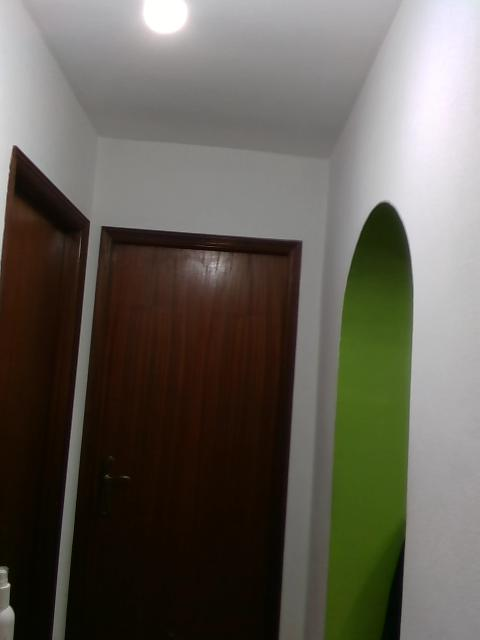door: (83, 237, 290, 640), (1, 179, 66, 640)
